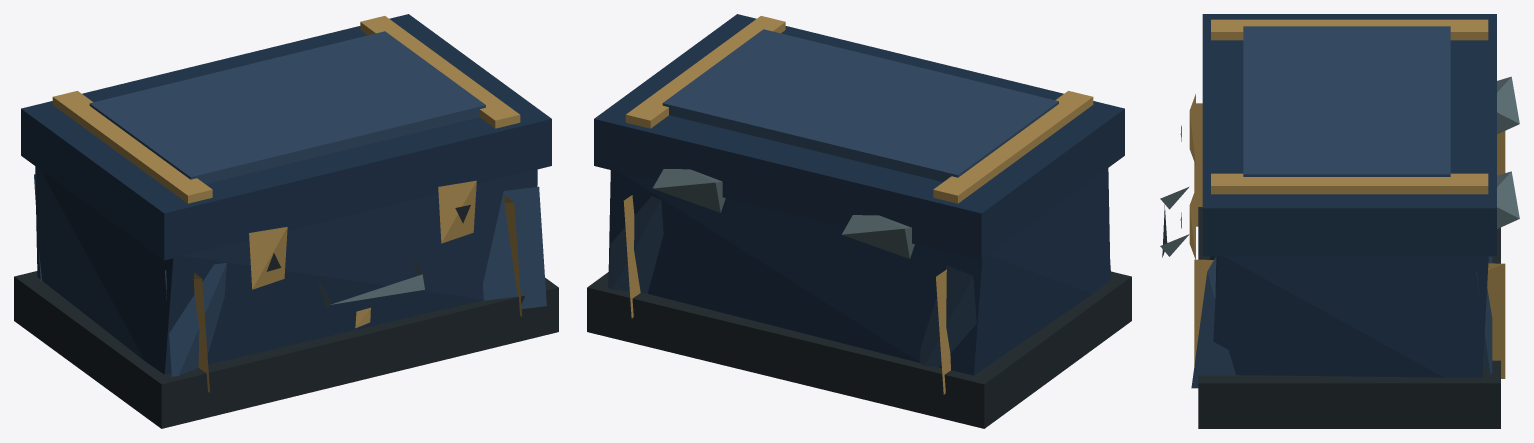
The model's file is FERNSTONE_WEAPON_CASE.shadow.glb.
3 renders of one model, left to right at view 1: azimuth 30°, elevation 25°; view 2: azimuth 150°, elevation 25°; view 3: azimuth 270°, elevation 25°, orthographic. The views are drawn at different scales.
Visible parts, largest first — view 1: Body_Mesh, LidPivot_Mesh; view 2: Body_Mesh, LidPivot_Mesh; view 3: LidPivot_Mesh, Body_Mesh.
Boxes of the visible parts, x1,y1,x2,y2 form: Body_Mesh: [14, 166, 558, 428]; LidPivot_Mesh: [21, 14, 551, 260]; Body_Mesh: [587, 168, 1131, 428]; LidPivot_Mesh: [594, 14, 1124, 260]; LidPivot_Mesh: [1202, 14, 1496, 256]; Body_Mesh: [1160, 76, 1519, 428].
Size of the model in its own units: 1.68 by 0.9025 by 1.28.
